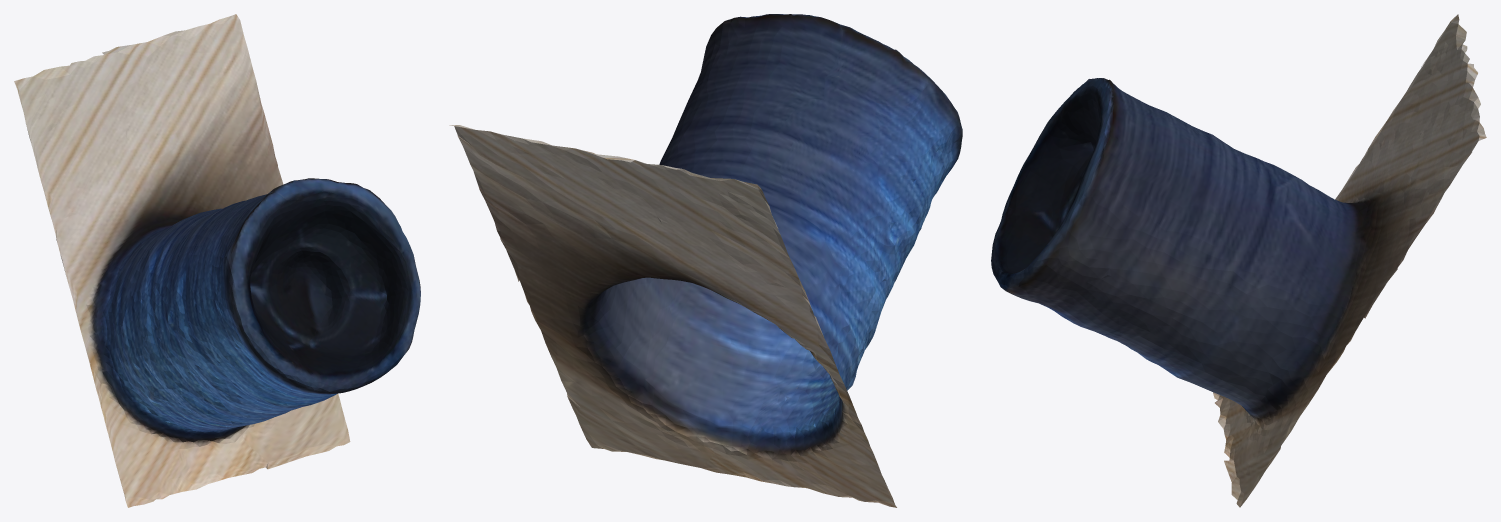
File: 26 Apr 2023.obj
3 renders of one model, left to right at view 1: azimuth 30°, elevation 25°; view 2: azimuth 150°, elevation 25°; view 3: azimuth 270°, elevation 25°, orthographic. The views are drawn at different scales.
Bounding box in the file's own units: 0.2281 × 0.3175 × 0.3851.
1 material, 1 textured.
